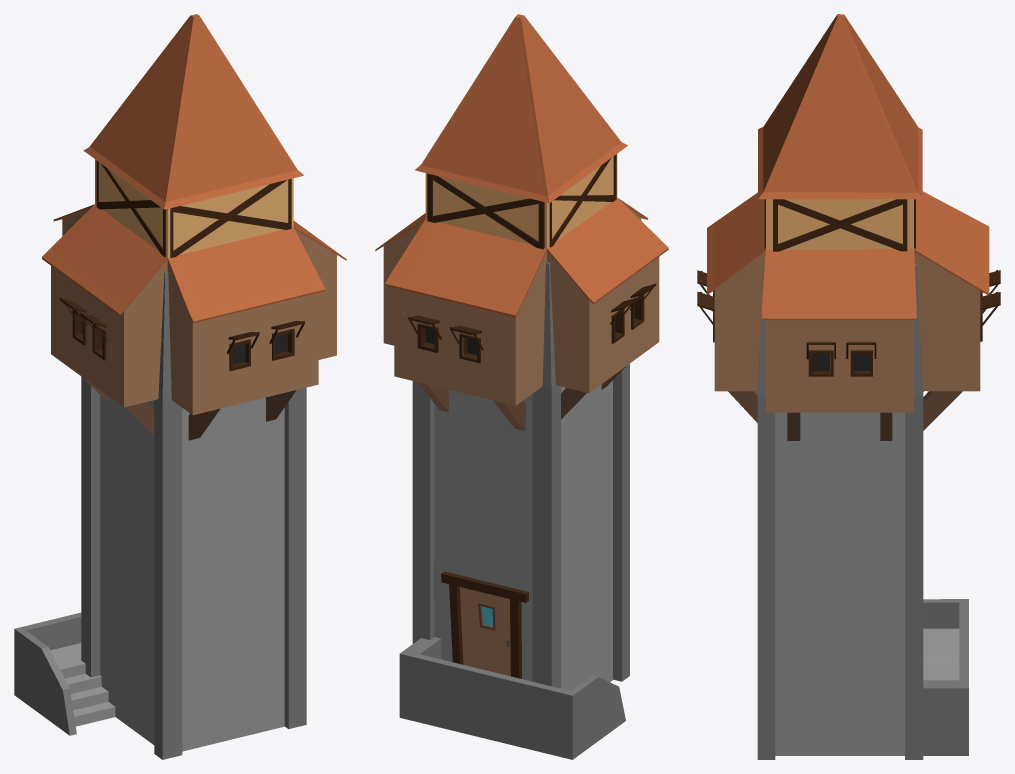
Rendered from Huis Design 4.fbx.
3 views of the same model, side by side, from view 1: azimuth 30°, elevation 25°; view 2: azimuth 150°, elevation 25°; view 3: azimuth 270°, elevation 25° (orthographic). The views are drawn at different scales.
Parts seen in each view (by area): view 1: HuisDesign 4; view 2: HuisDesign 4; view 3: HuisDesign 4.
Part boxes in pixels (x1,y1,x2,y2): HuisDesign 4: (14, 14, 346, 759); HuisDesign 4: (375, 14, 668, 759); HuisDesign 4: (697, 14, 1000, 759).
Size of the model in its own units: 662 by 1821 by 705.
